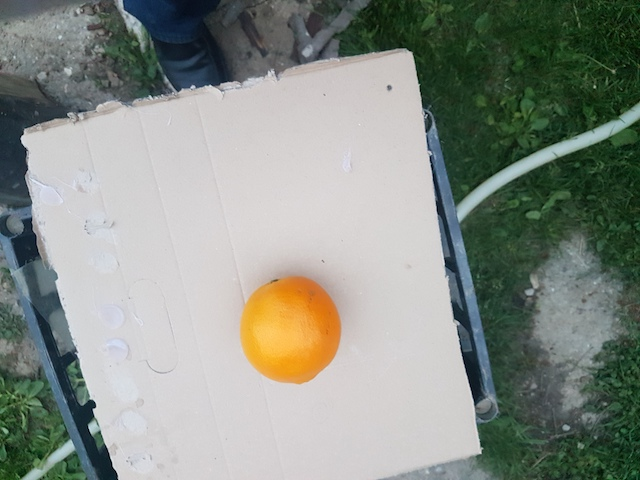orange: (240, 277, 344, 385)
